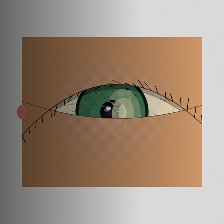corneal_ulcer: (97, 93, 149, 135)
